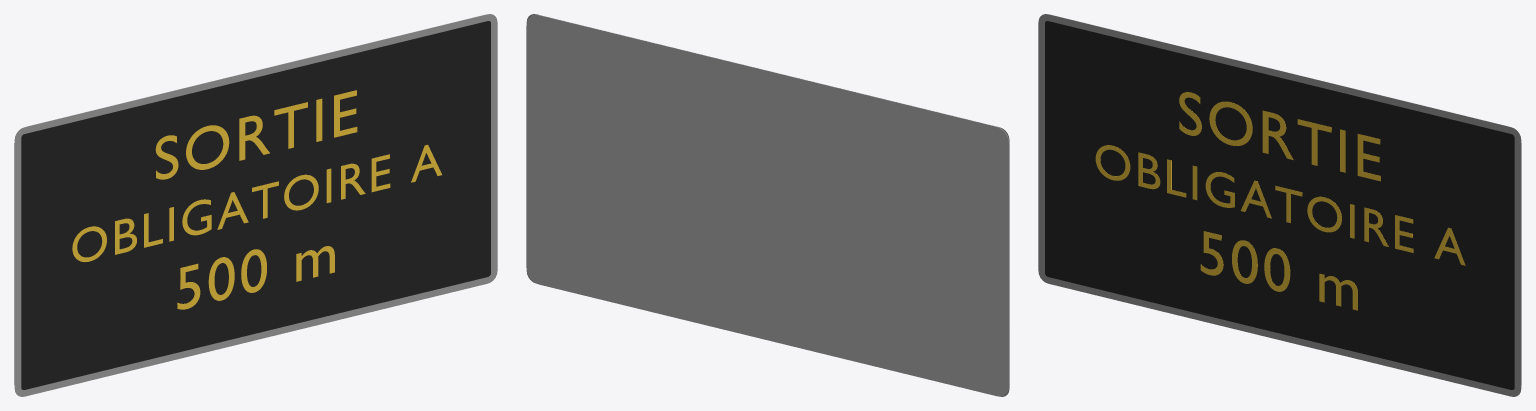
The model's file is MSG_SORTIE_OBLIGATOIRE_A_yyyy_m.glb.
The picture shows the model from 3 angles, left to right: view 1: azimuth 30°, elevation 25°; view 2: azimuth 150°, elevation 25°; view 3: azimuth 330°, elevation 25°; orthographic projection.
Visible parts, largest first — view 1: MSG_SORTIE_OBLIGATOIRE_A_yyyy_m_fond01, MSG_SORTIE_OBLIGATOIRE_A_yyyy_m_cadre00, MSG_SORTIE_OBLIGATOIRE_A_yyyy_m_txt03, MSG_SORTIE_OBLIGATOIRE_A_yyyy_m_txt02, MSG_SORTIE_OBLIGATOIRE_A_yyyy_m_txt04, MSG_SORTIE_OBLIGATOIRE_A_yyyy_m_dos; view 2: MSG_SORTIE_OBLIGATOIRE_A_yyyy_m_dos; view 3: MSG_SORTIE_OBLIGATOIRE_A_yyyy_m_fond01, MSG_SORTIE_OBLIGATOIRE_A_yyyy_m_cadre00, MSG_SORTIE_OBLIGATOIRE_A_yyyy_m_txt03, MSG_SORTIE_OBLIGATOIRE_A_yyyy_m_txt02, MSG_SORTIE_OBLIGATOIRE_A_yyyy_m_txt04, MSG_SORTIE_OBLIGATOIRE_A_yyyy_m_dos.
Part boxes in pixels (x1,y1,x2,y2): MSG_SORTIE_OBLIGATOIRE_A_yyyy_m_fond01: (21, 21, 490, 389); MSG_SORTIE_OBLIGATOIRE_A_yyyy_m_cadre00: (14, 14, 497, 396); MSG_SORTIE_OBLIGATOIRE_A_yyyy_m_txt03: (72, 144, 441, 262); MSG_SORTIE_OBLIGATOIRE_A_yyyy_m_txt02: (155, 90, 357, 179); MSG_SORTIE_OBLIGATOIRE_A_yyyy_m_txt04: (177, 246, 334, 309); MSG_SORTIE_OBLIGATOIRE_A_yyyy_m_dos: (14, 14, 484, 384); MSG_SORTIE_OBLIGATOIRE_A_yyyy_m_dos: (526, 14, 1009, 396); MSG_SORTIE_OBLIGATOIRE_A_yyyy_m_fond01: (1045, 21, 1514, 389); MSG_SORTIE_OBLIGATOIRE_A_yyyy_m_cadre00: (1038, 14, 1521, 396); MSG_SORTIE_OBLIGATOIRE_A_yyyy_m_txt03: (1095, 145, 1465, 265); MSG_SORTIE_OBLIGATOIRE_A_yyyy_m_txt02: (1179, 92, 1380, 181); MSG_SORTIE_OBLIGATOIRE_A_yyyy_m_txt04: (1200, 231, 1357, 310); MSG_SORTIE_OBLIGATOIRE_A_yyyy_m_dos: (1051, 14, 1521, 384).
Bounding box in the file's own units: 1.5 × 0.8 × 0.0033.
